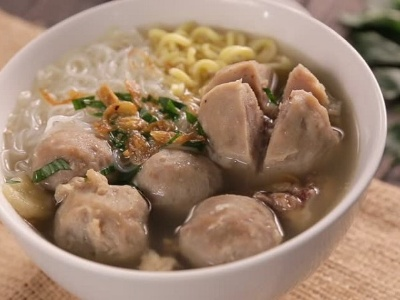bakso: (41, 59, 330, 258)
